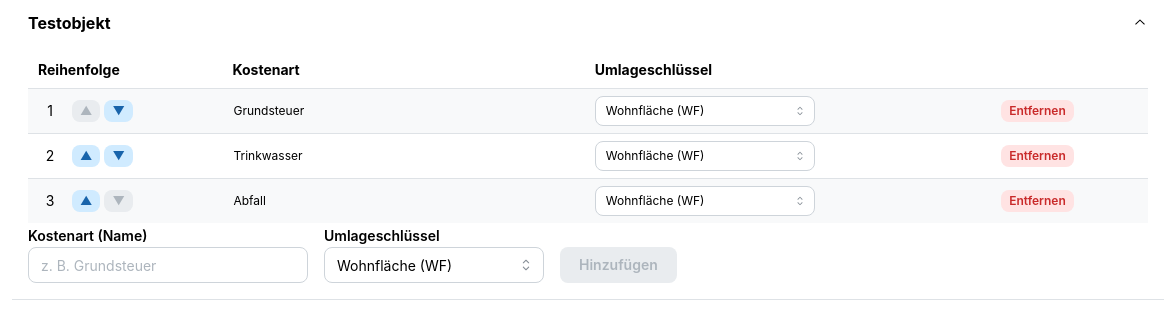
Test: ConfigsTab › verwirft die Umbenennung per Escape ohne PATCH
Replace the text in the 1st field named "Kostenart" with "Hausgeld" at point(404, 111), box [232,96,575,126]
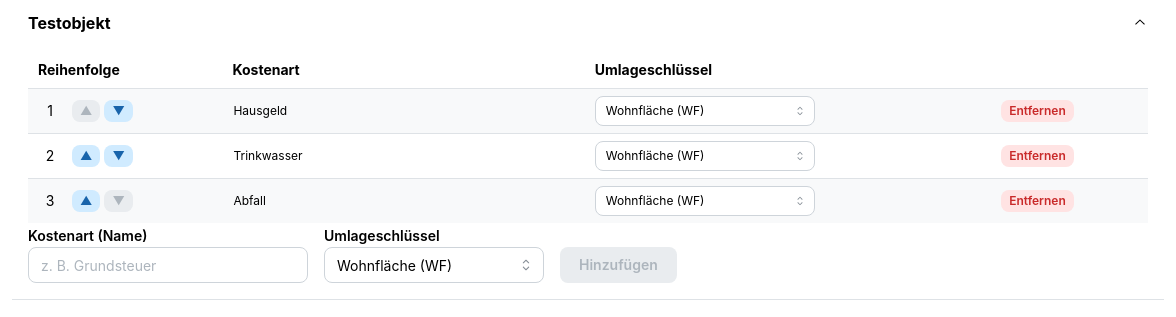
Press Escape
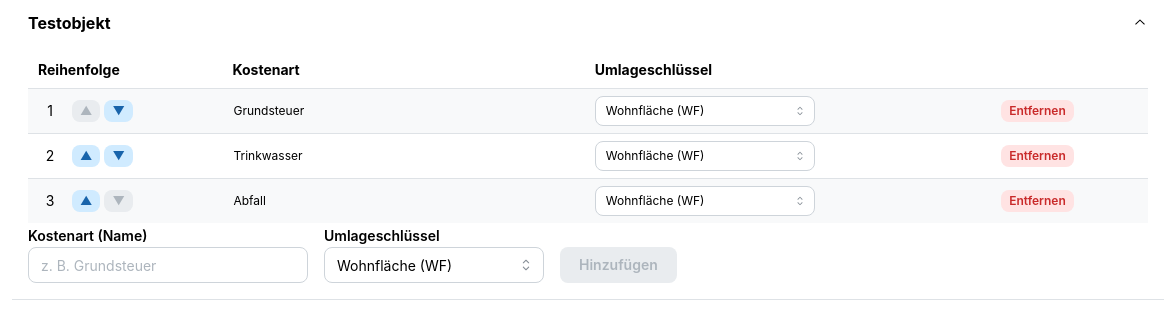
Now the 1st field named "Kostenart" holds "Grundsteuer", box [232,96,575,126]
